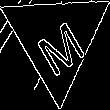M_NW: (27, 5, 86, 73)
